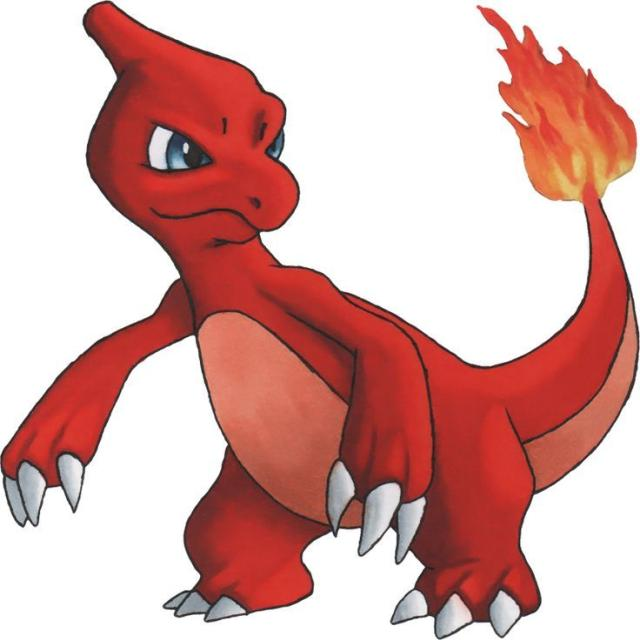Charmeleon: (83, 31, 570, 634)
